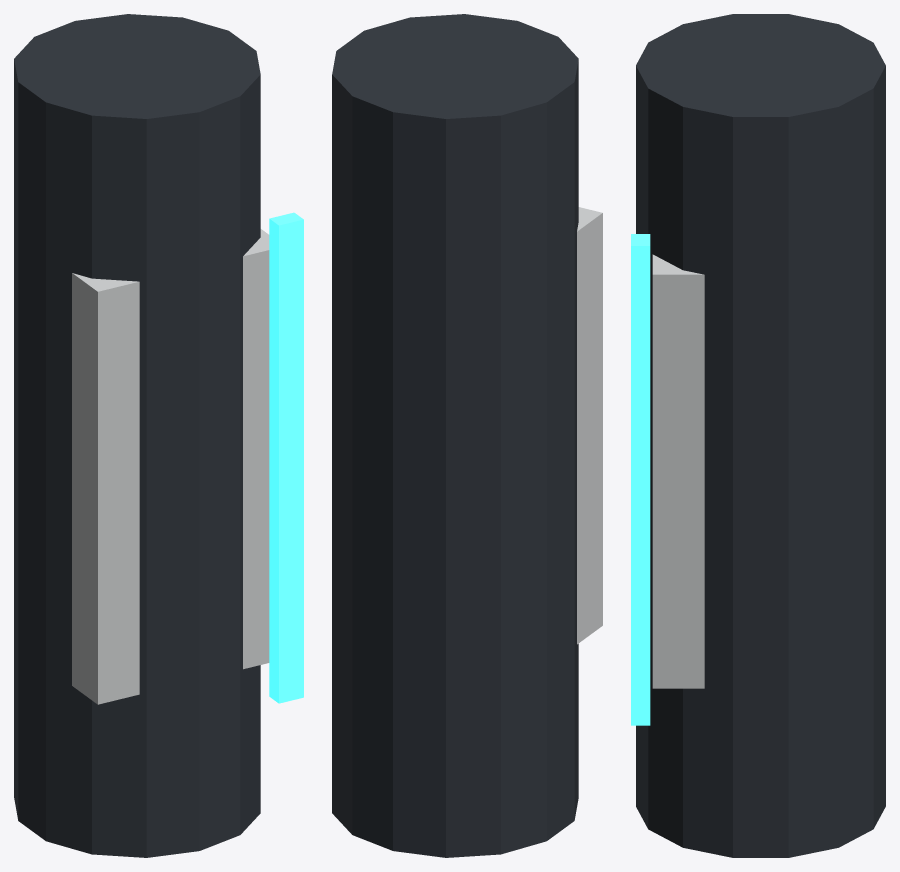
File: cyber_lower_leg.glb
3 renders of one model, left to right at view 1: azimuth 30°, elevation 25°; view 2: azimuth 150°, elevation 25°; view 3: azimuth 270°, elevation 25°, orthographic.
Parts seen in each view (by area): view 1: part_000, part_002, part_003; view 2: part_000, part_002; view 3: part_000, part_002, part_003.
Boxes of the visible parts, x1,y1,x2,y2 form: part_000: [14, 14, 260, 857]; part_002: [72, 229, 269, 704]; part_003: [269, 212, 303, 703]; part_000: [332, 14, 578, 857]; part_002: [577, 207, 602, 644]; part_000: [636, 14, 885, 857]; part_002: [652, 254, 704, 688]; part_003: [631, 234, 650, 725].
Bounding box in the file's own units: 0.1014 × 0.34 × 0.106.
